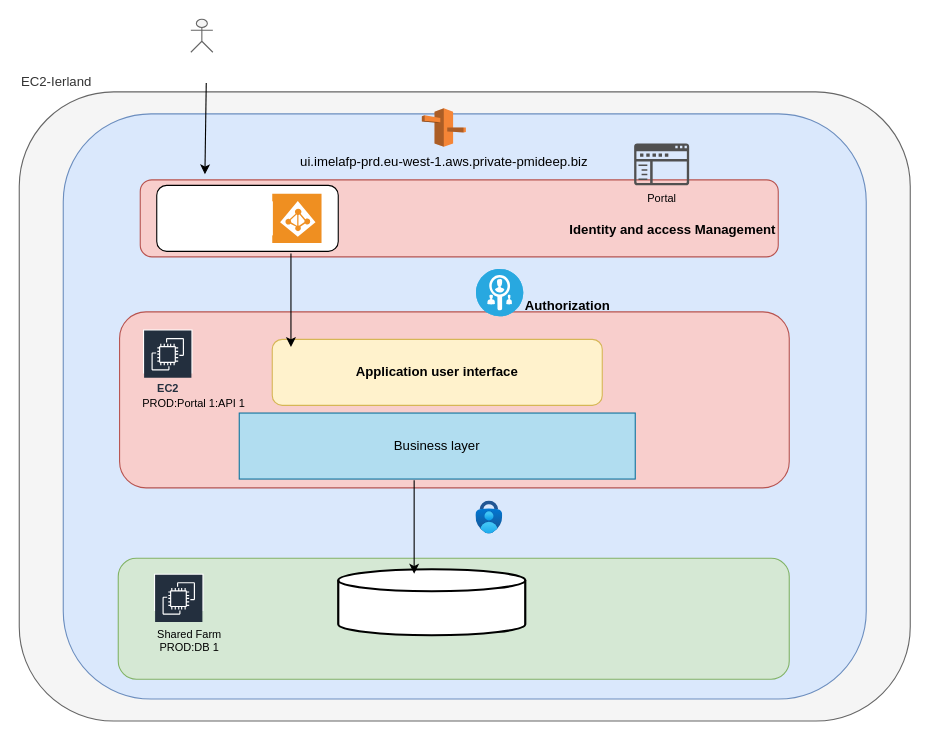
The diagram is 930 pixels wide and 740 high, and some of its shapes have lost their labels. The shapes that lost their labels are listed below. From the top down, each one's centre as x and y in pixels, then its label:
At (201,35): "Actor".
At (218,218): "Active Directory".
At (488,517): "Windows Authentication".
At (431,602): "iMEL_AUTOCONFIG".
